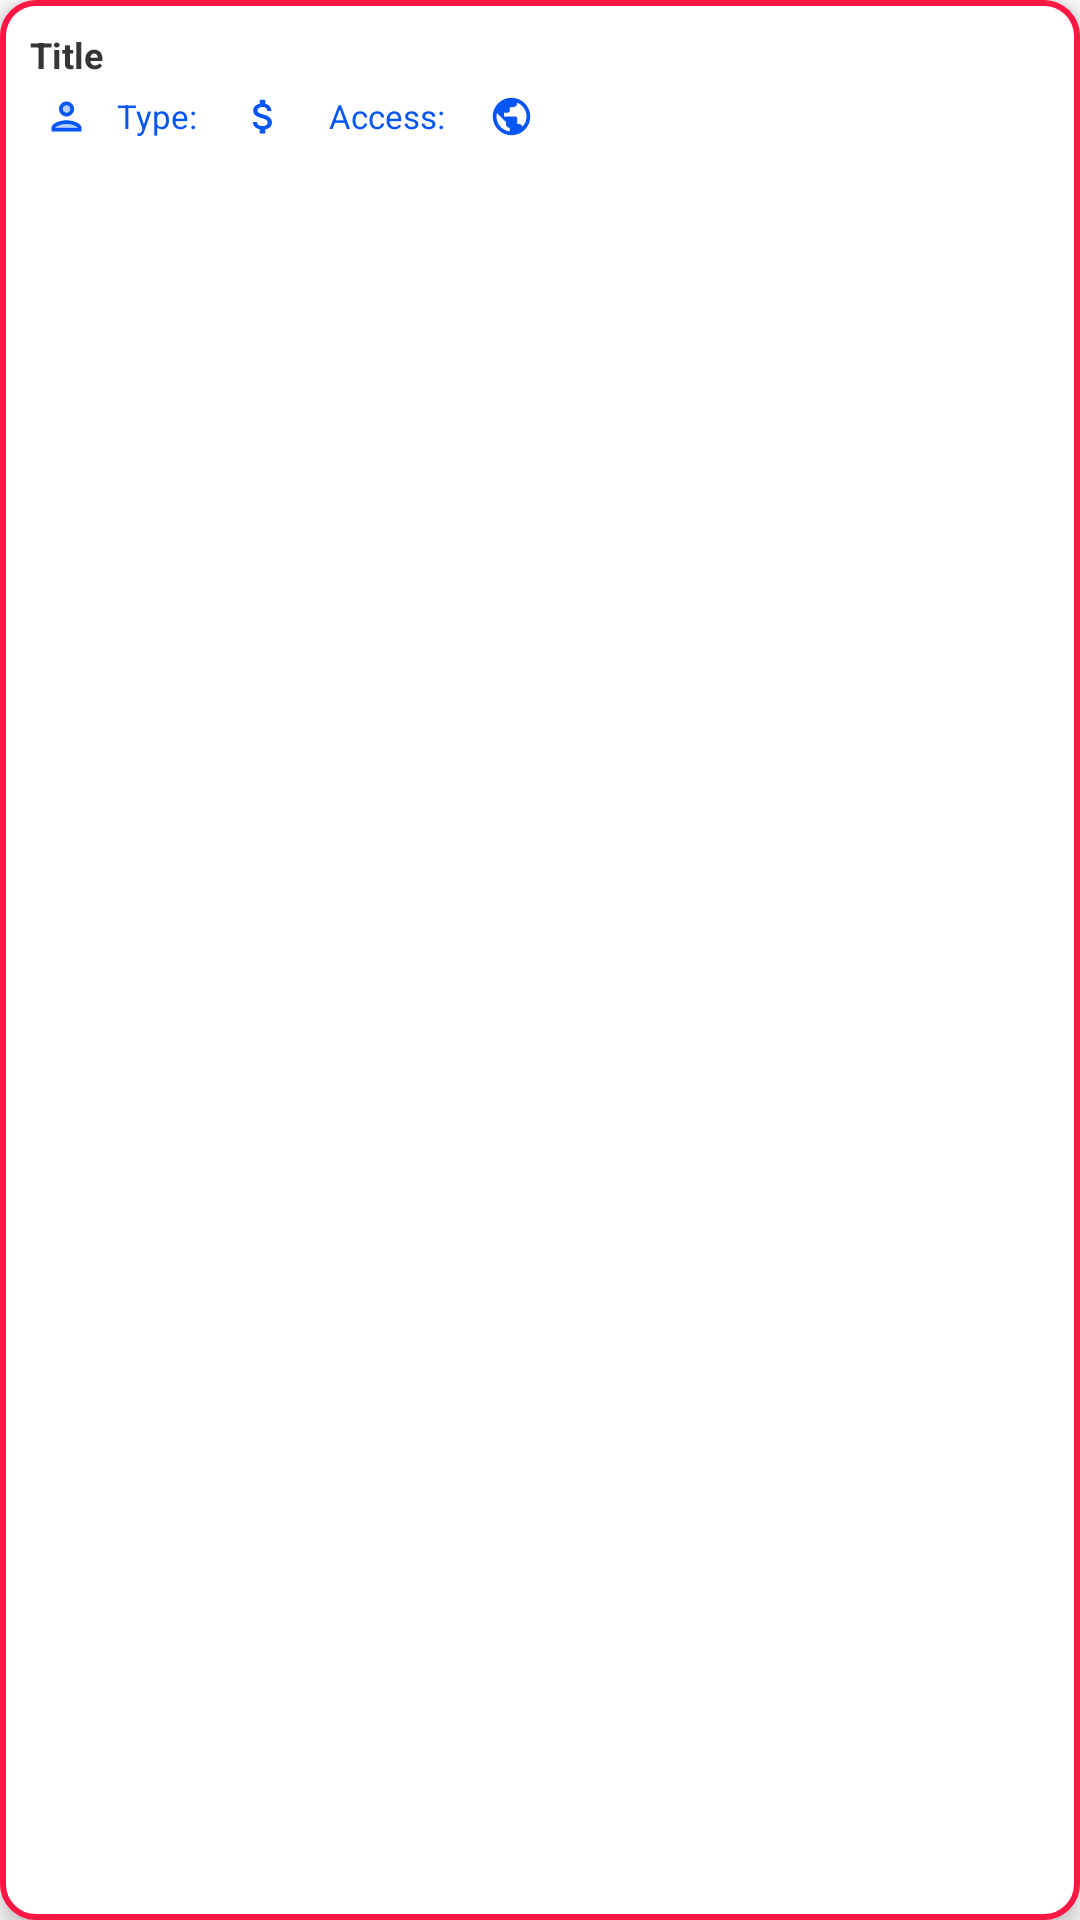

Named icons in this screenshot (1080 x 1920) and their centers, [x,y]:
attach money: [262,116]
person: [66,116]
public: [511,116]
